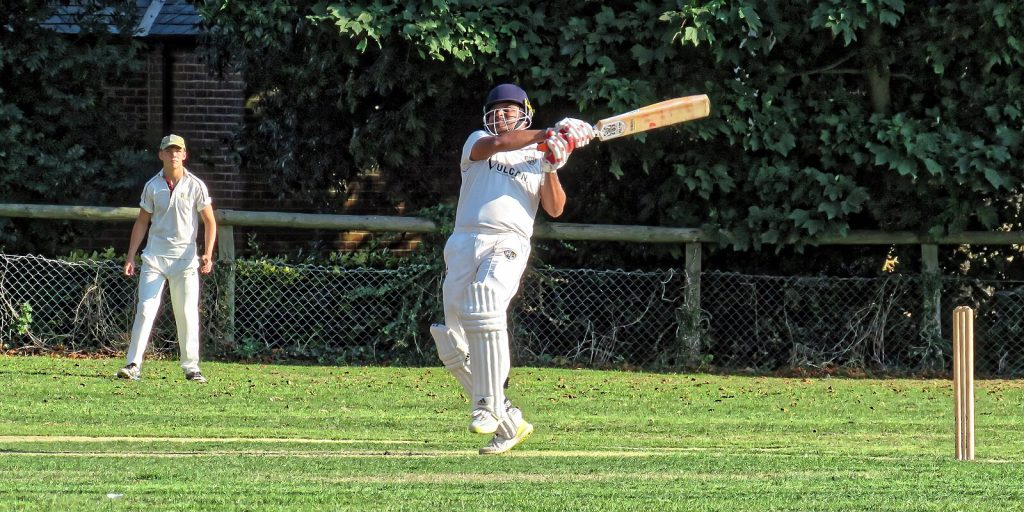Pullshot: (336, 0, 777, 512)
